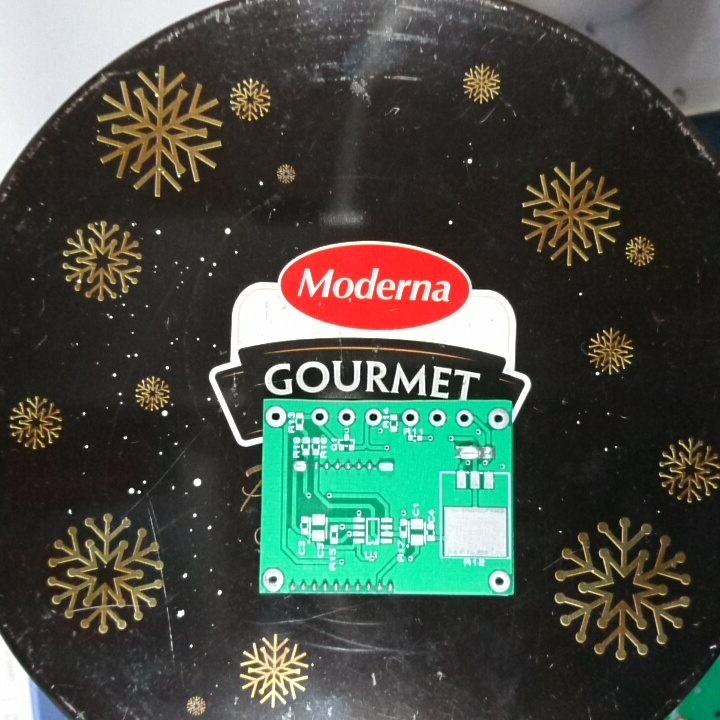F: (485, 569, 514, 596), (261, 566, 288, 592), (485, 406, 510, 432), (264, 405, 289, 429), (426, 406, 449, 429), (454, 407, 476, 429), (309, 406, 331, 428), (335, 406, 358, 427), (399, 408, 421, 429), (362, 406, 384, 427)
P: (453, 444, 482, 463), (375, 459, 397, 475), (290, 459, 309, 472)
